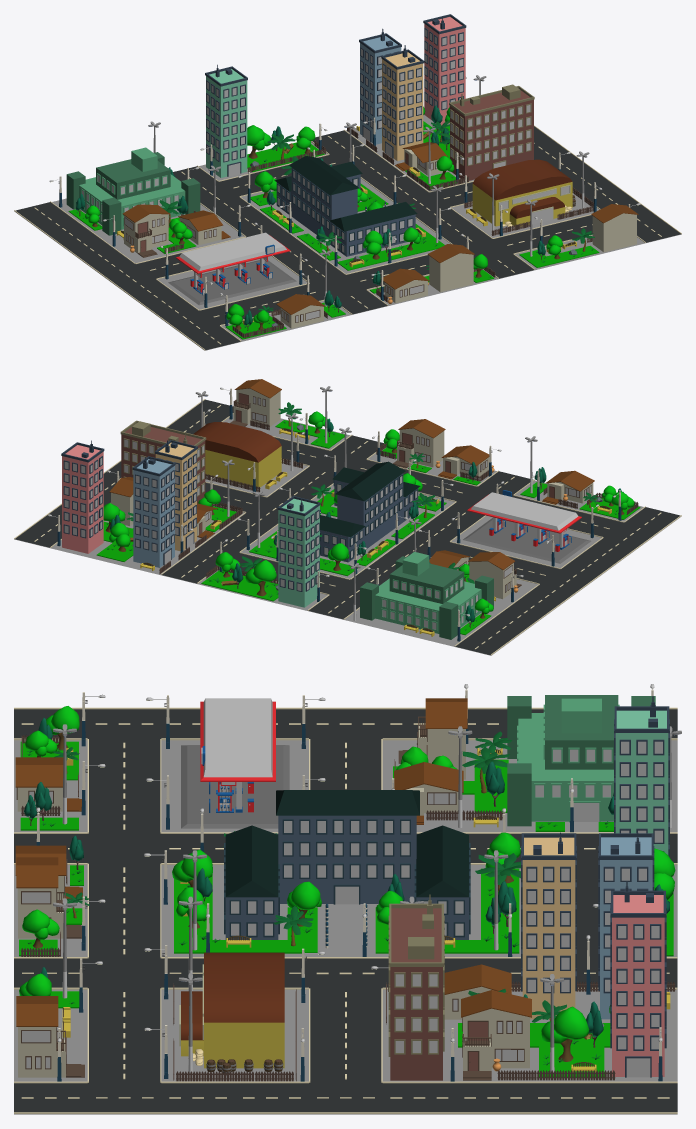
The model's file is Cidade-1.fbx.
The picture shows the model from 3 angles, top to bottom: view 1: azimuth 30°, elevation 25°; view 2: azimuth 150°, elevation 25°; view 3: azimuth 270°, elevation 25°; orthographic projection. The views are drawn at different scales.
Visible parts, largest first — view 1: Plano, Escola, Predio Grande, Hospital, Posto de Gasolina, Mercado, Predio Torre.002, Predio Torre.003, Predio Torre.001, Predio Torre, Casa Grande.004, Casa Grande.001 (+47 smaller); view 2: Plano, Hospital, Escola, Posto de Gasolina, Predio Torre.001, Predio Torre, Predio Torre.002, Mercado, Predio Grande, Predio Torre.003, Casa Grande.002, Casa Grande.001 (+47 smaller); view 3: Plano, Escola, Hospital, Posto de Gasolina, Predio Torre.001, Mercado, Predio Grande, Predio Torre.003, Predio Torre.002, Casa Grande.003, Predio Torre, Casa Grande.002 (+64 smaller).
Boxes of the visible parts, bbox=[...] form: Plano: bbox=[14, 115, 681, 350]; Escola: bbox=[274, 156, 417, 256]; Predio Grande: bbox=[449, 84, 534, 180]; Hospital: bbox=[66, 147, 200, 235]; Posto de Gasolina: bbox=[168, 232, 296, 305]; Mercado: bbox=[472, 159, 572, 226]; Predio Torre.002: bbox=[205, 64, 247, 177]; Predio Torre.003: bbox=[381, 45, 424, 161]; Predio Torre.001: bbox=[423, 14, 466, 125]; Predio Torre: bbox=[359, 28, 401, 144]; Casa Grande.004: bbox=[122, 204, 169, 257]; Casa Grande.001: bbox=[427, 244, 474, 292]; Plano: bbox=[14, 414, 681, 655]; Hospital: bbox=[360, 552, 493, 639]; Escola: bbox=[277, 461, 420, 562]; Posto de Gasolina: bbox=[463, 490, 591, 563]; Predio Torre.001: bbox=[61, 440, 104, 553]; Predio Torre: bbox=[132, 456, 175, 567]; Predio Torre.002: bbox=[277, 496, 320, 607]; Mercado: bbox=[193, 422, 281, 487]; Predio Grande: bbox=[120, 420, 206, 503]; Predio Torre.003: bbox=[155, 440, 197, 551]; Casa Grande.002: bbox=[230, 379, 281, 426]; Casa Grande.001: bbox=[392, 419, 445, 468]; Plano: bbox=[14, 740, 677, 1114]; Escola: bbox=[224, 790, 470, 939]; Hospital: bbox=[507, 695, 655, 826]; Posto de Gasolina: bbox=[181, 698, 289, 828]; Predio Torre.001: bbox=[610, 880, 666, 1077]; Mercado: bbox=[179, 952, 284, 1068]; Predio Grande: bbox=[388, 894, 444, 1080]; Predio Torre.003: bbox=[521, 832, 576, 1019]; Predio Torre.002: bbox=[614, 696, 669, 857]; Casa Grande.003: bbox=[461, 990, 531, 1080]; Predio Torre: bbox=[598, 832, 654, 1019]; Casa Grande.002: bbox=[16, 996, 84, 1077].
Size of the model in its own units: 9100 by 1927 by 6342.
